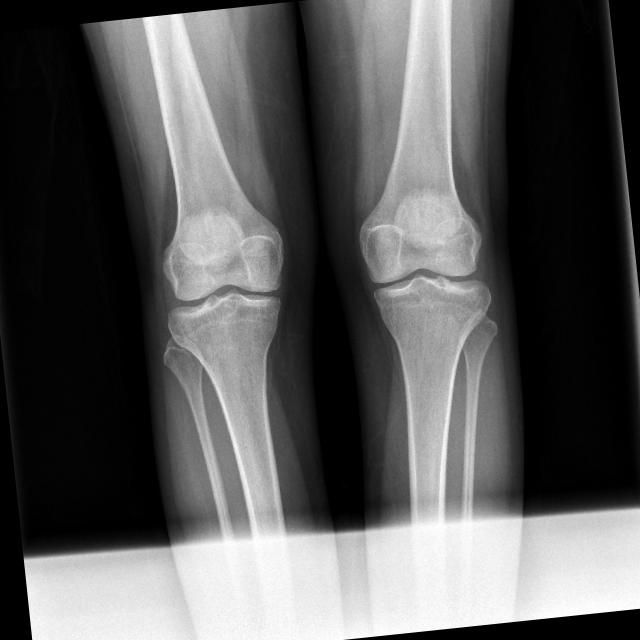Knee: (359, 218, 496, 332), (160, 238, 296, 348)
